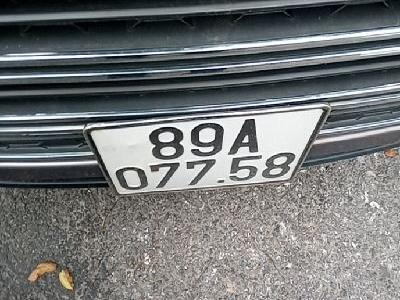lisence: (83, 102, 330, 199)
